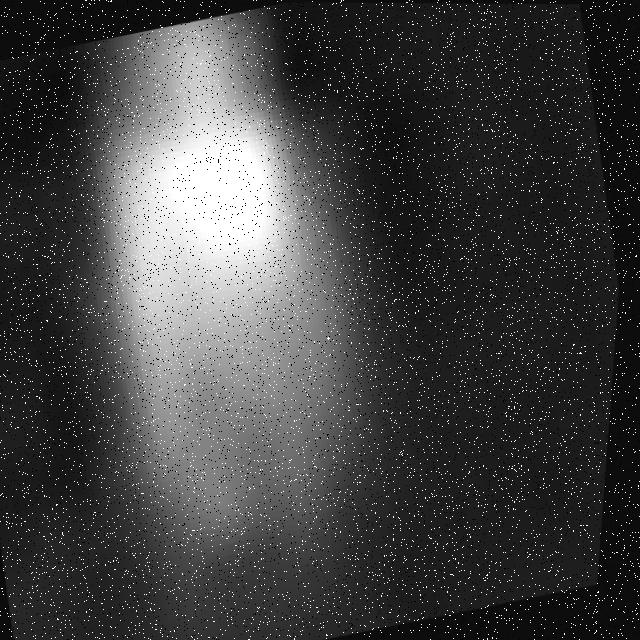person: (22, 1, 443, 611)
